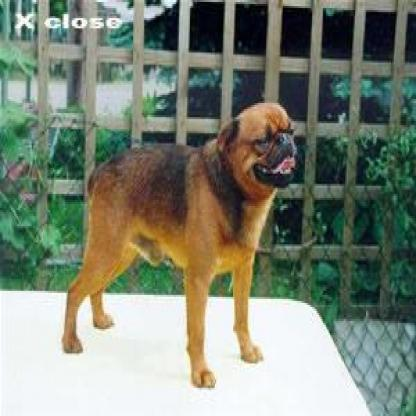Brabancon_griffon: (61, 99, 293, 386)
